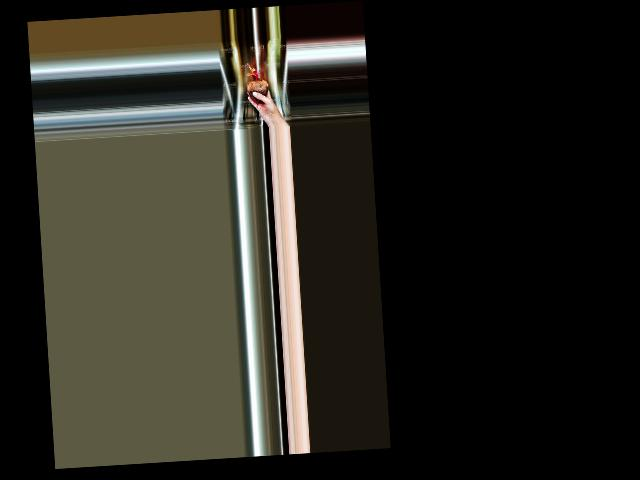beet: (244, 62, 269, 104)
